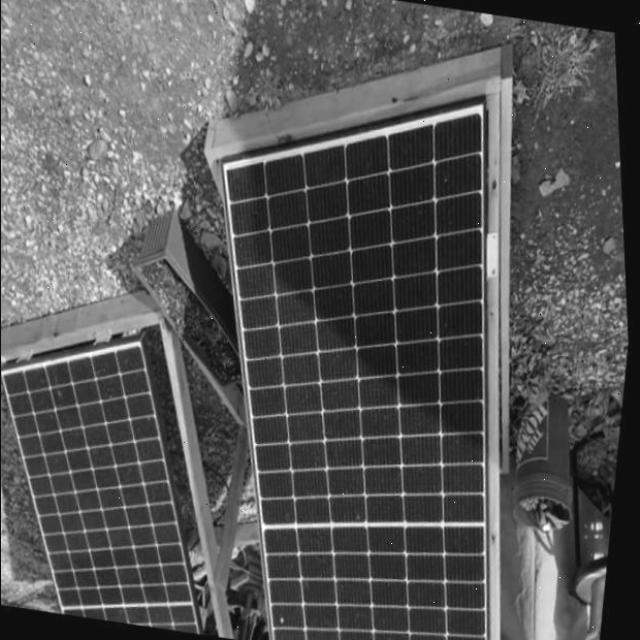Normal Solar Panel: (159, 68, 565, 640), (0, 323, 239, 634)
